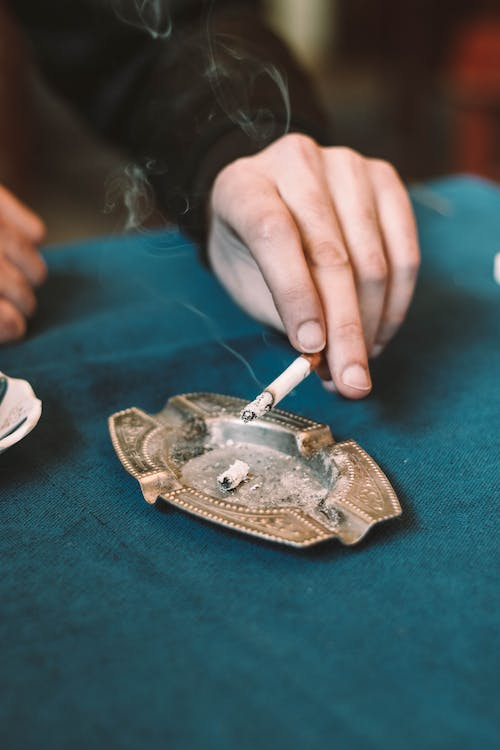cigarette: (239, 347, 327, 425), (215, 459, 249, 493)
